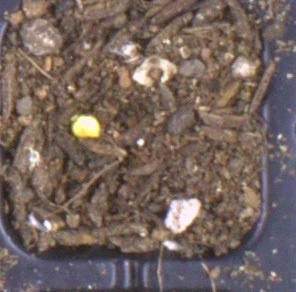chilli seed: (71, 115, 101, 139)
